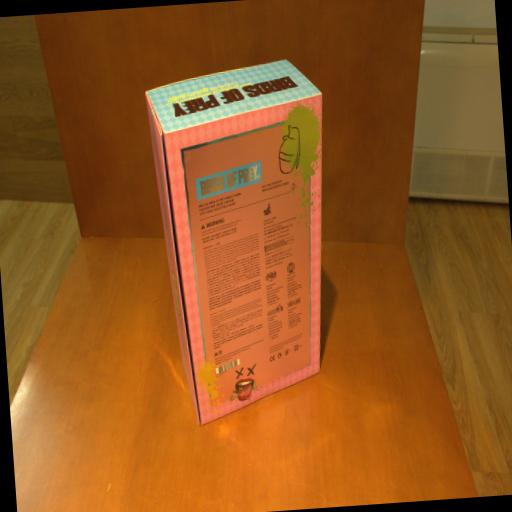Harley: (143, 57, 345, 427)
